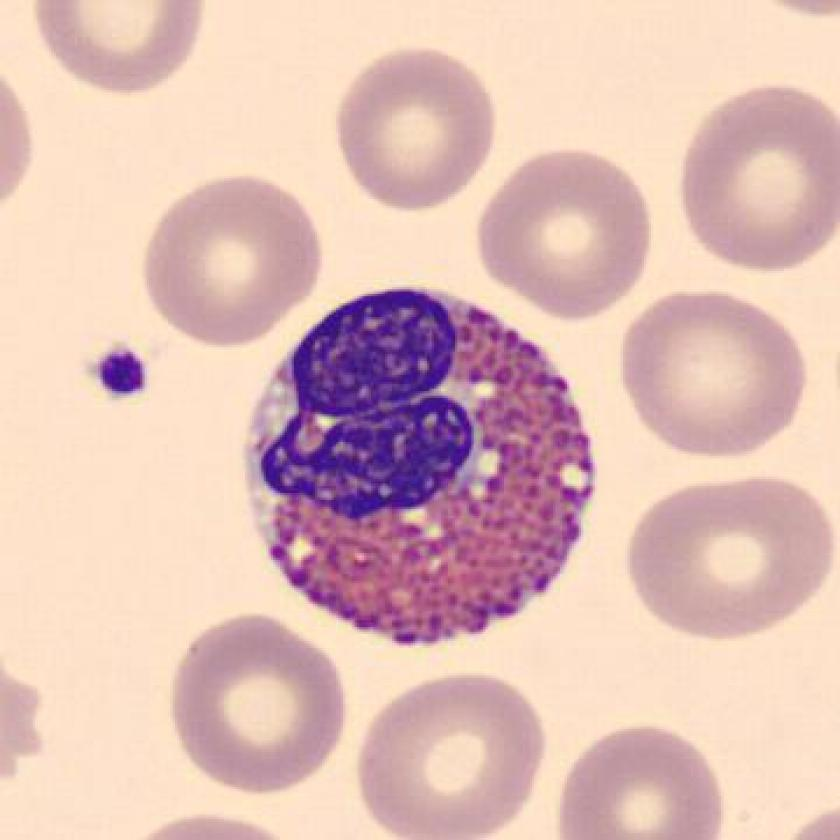eosinophil: (234, 270, 610, 665)
